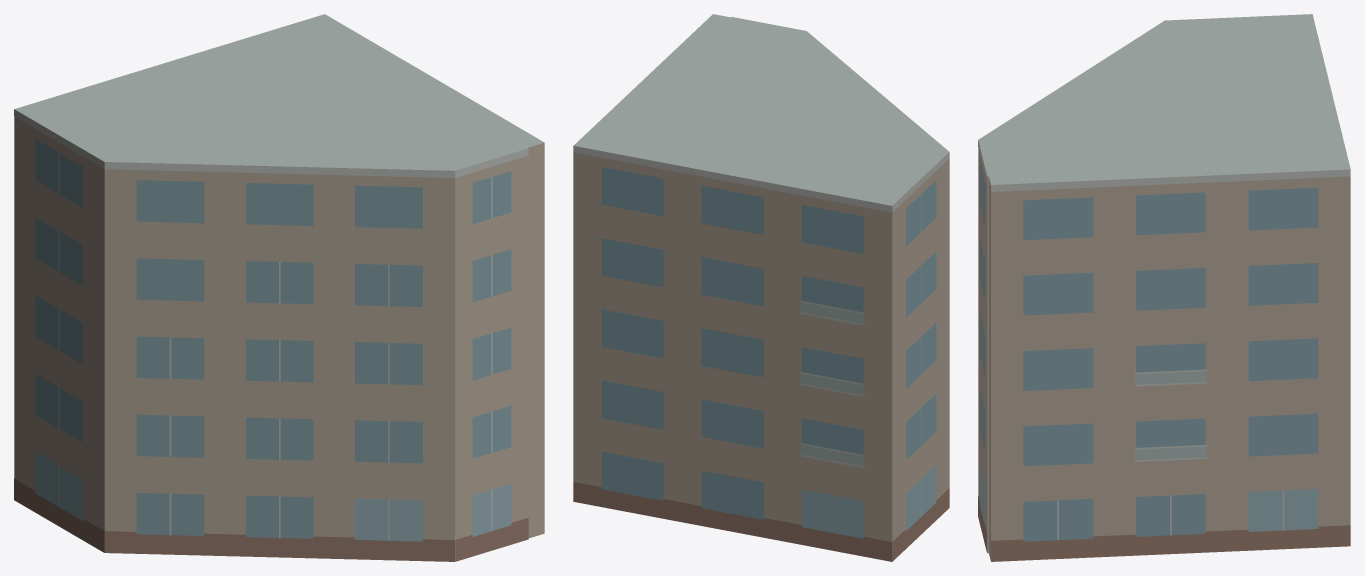
File: survey-upis-32871505.glb
3 views of the same model, side by side, from view 1: azimuth 30°, elevation 25°; view 2: azimuth 150°, elevation 25°; view 3: azimuth 270°, elevation 25° (orthographic). The views are drawn at different scales.
Visible parts, largest first — view 1: survey-upis-32871505.tmp; view 2: survey-upis-32871505.tmp; view 3: survey-upis-32871505.tmp.
Part boxes in pixels (x1,y1,x2,y2): survey-upis-32871505.tmp: (14,14,544,561); survey-upis-32871505.tmp: (573,14,949,561); survey-upis-32871505.tmp: (978,14,1350,561).
Bounding box in the file's own units: 12.86 × 13.2 × 11.84.
